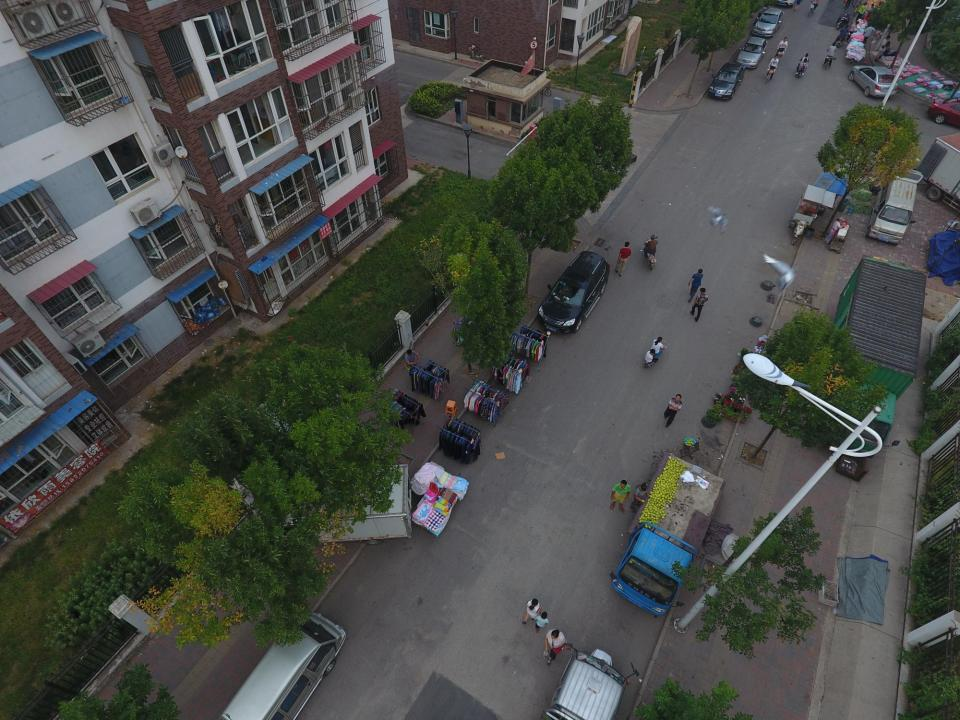car: (537, 251, 610, 334), (848, 66, 898, 97), (707, 61, 745, 100), (928, 95, 960, 128), (736, 36, 768, 68), (753, 8, 783, 36)
truck: (825, 256, 927, 457), (610, 453, 723, 615), (267, 466, 411, 548)
van: (221, 610, 345, 720), (866, 166, 922, 245)
